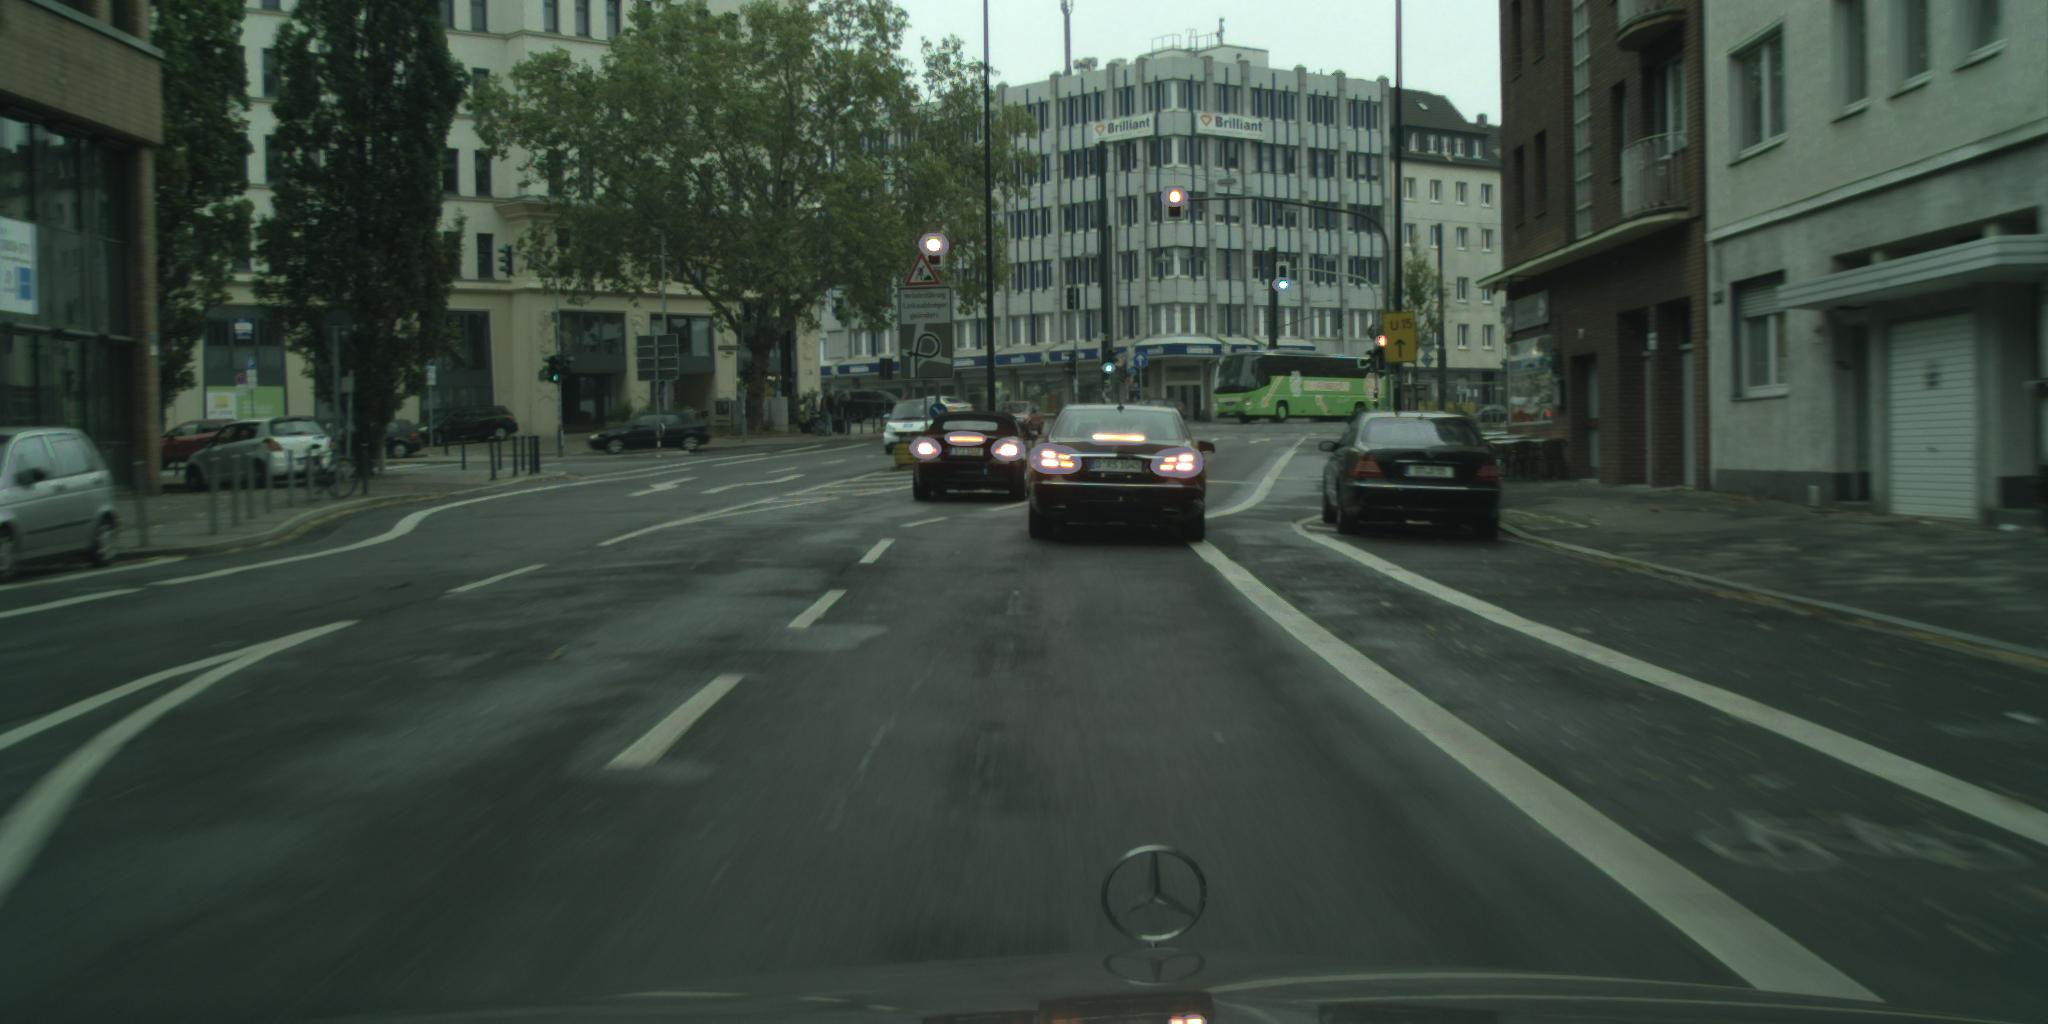bicycle: (310, 445, 360, 502)
bus: (1207, 351, 1404, 424)
car: (1029, 404, 1217, 545), (1319, 411, 1502, 543), (1, 427, 124, 585), (185, 417, 346, 495), (913, 411, 1041, 503), (589, 410, 713, 456), (327, 421, 424, 470), (411, 406, 520, 449), (161, 419, 240, 472), (884, 398, 952, 456), (831, 388, 903, 423), (997, 401, 1046, 441), (922, 394, 974, 431), (1132, 398, 1189, 423), (1469, 405, 1510, 434)
